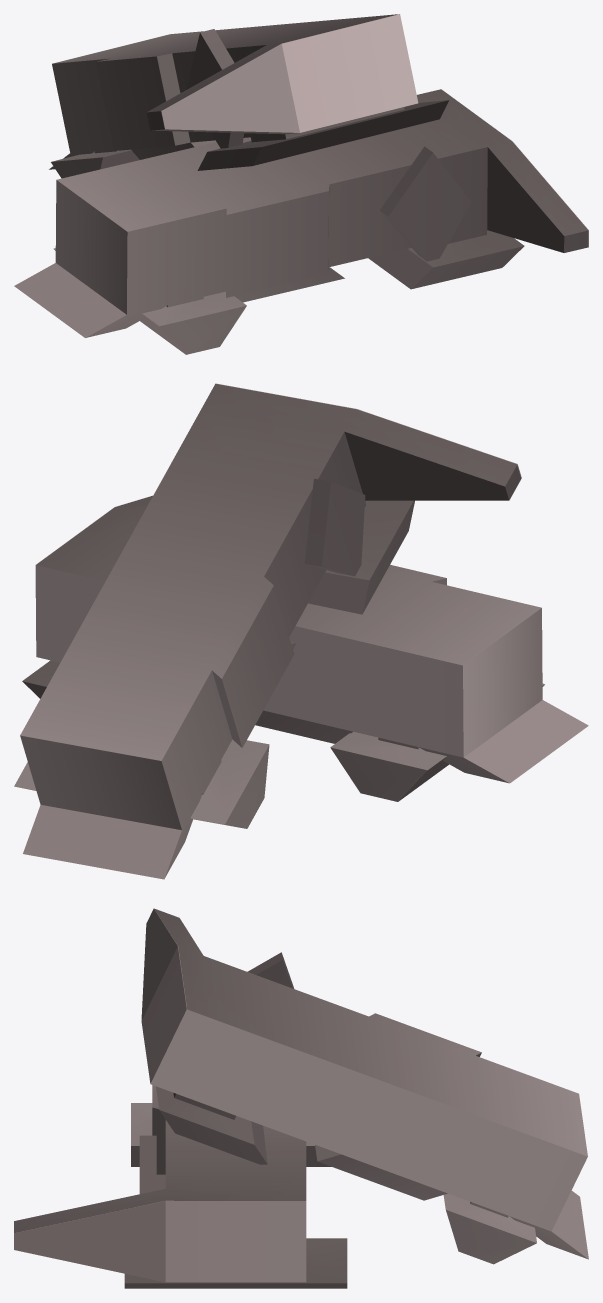
The model's file is RobotLegs.fbx.
The picture shows the model from 3 angles, top to bottom: view 1: azimuth 30°, elevation 25°; view 2: azimuth 150°, elevation 25°; view 3: azimuth 270°, elevation 25°; orthographic projection. The views are drawn at different scales.
Visible parts, largest first — view 1: pCube3, pasted__pCube3; view 2: pasted__pCube3, pCube3; view 3: pasted__pCube3, pCube3.
Boxes of the visible parts, x1,y1,x2,y2 form: pCube3: (14,89,588,354); pasted__pCube3: (49,14,448,178); pasted__pCube3: (14,383,521,879); pCube3: (22,495,588,801); pasted__pCube3: (141,908,588,1264); pCube3: (14,1085,347,1288).
Size of the model in its own units: 114 by 69.05 by 134.
1 material, 1 textured.
